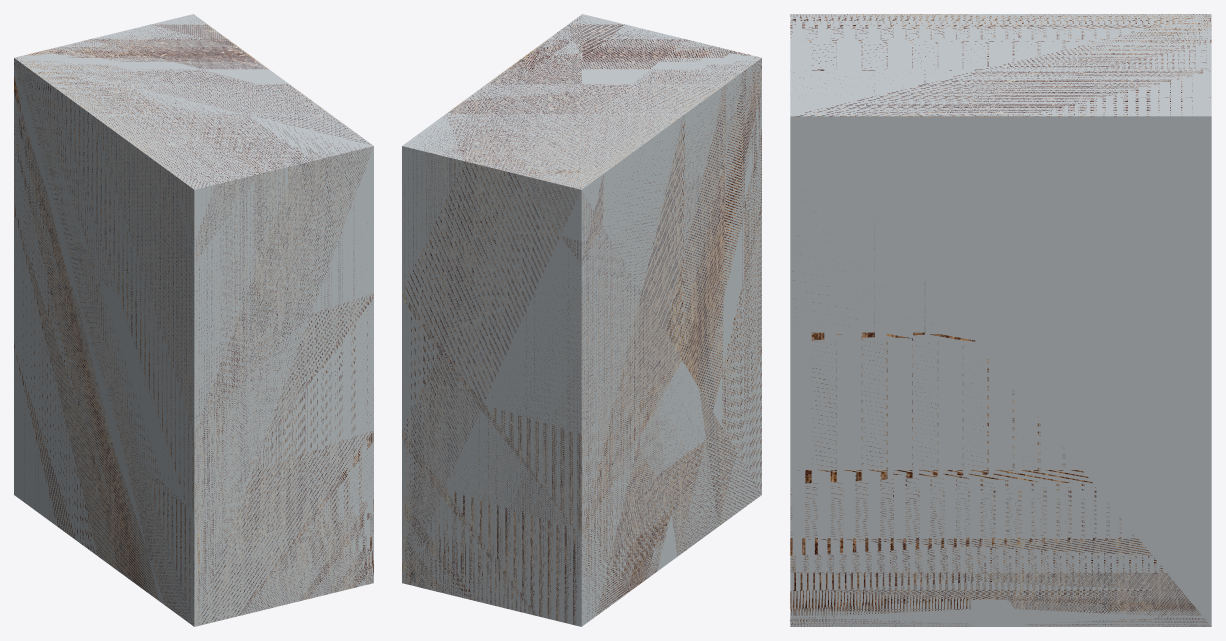
The model's file is resak.glb.
3 views of the same model, side by side, from view 1: azimuth 30°, elevation 25°; view 2: azimuth 150°, elevation 25°; view 3: azimuth 270°, elevation 25° (orthographic). The views are drawn at different scales.
Visible parts, largest first — view 1: BackSide, FrontSide; view 2: BackSide, FrontSide; view 3: BackSide, FrontSide.
Part boxes in pixels (x1,y1,x2,y2): BackSide: [14, 14, 373, 626]; FrontSide: [14, 20, 373, 626]; BackSide: [402, 14, 761, 626]; FrontSide: [402, 16, 761, 624]; BackSide: [790, 14, 1211, 626]; FrontSide: [790, 14, 1211, 626].
Size of the model in its own units: 1.71 by 3.97 by 2.97.
4 materials, 3 textured.
